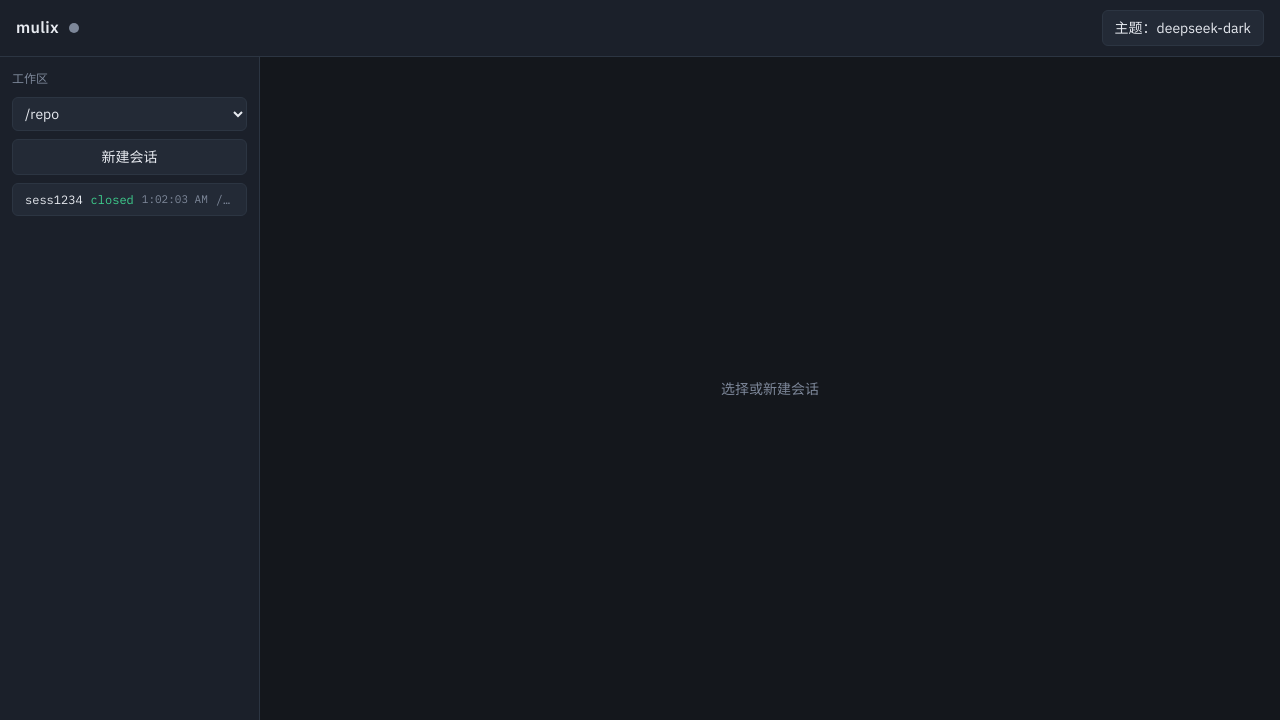
Test case: 交互面（task-12） › 状态条：引擎启动失败（ready=FAILED）如实呈现（FR-013）
Click the button "sess1234 closed 1:02:03 AM /repo".
click(130, 200)  # box x1=12 y1=183 x2=247 y2=216
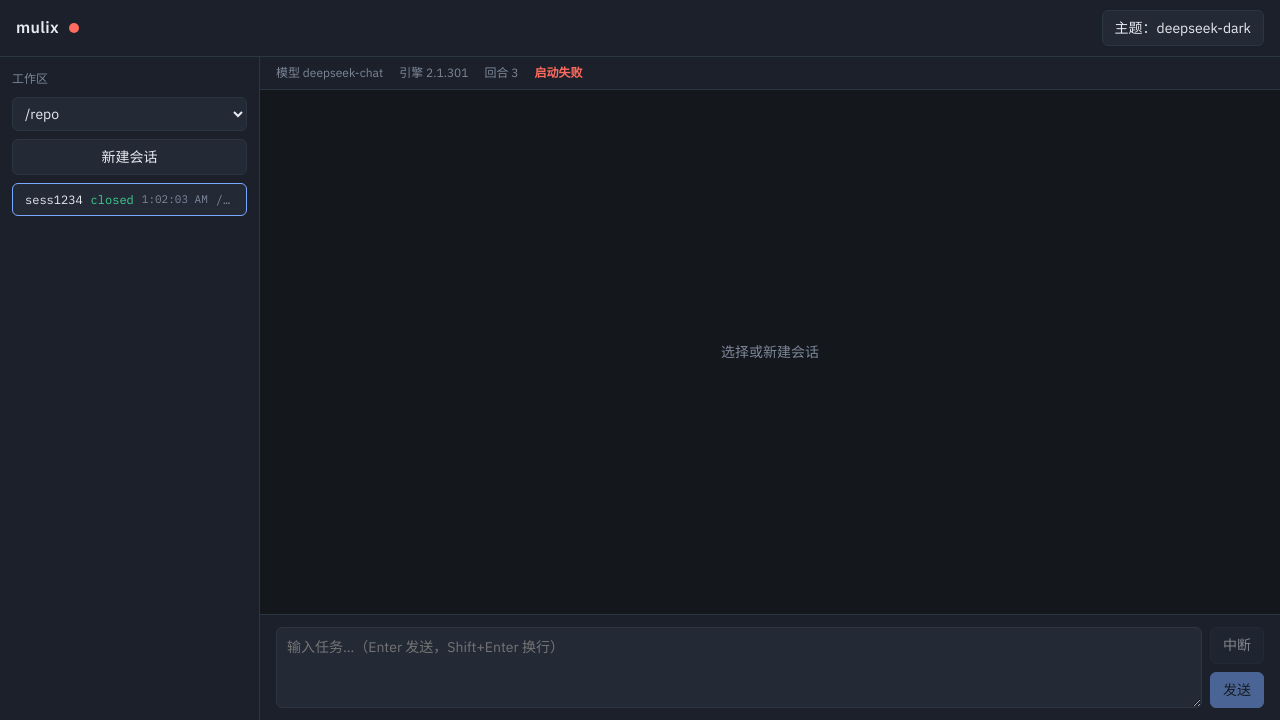
Check: the text "启动失败" is shown, box x1=534 y1=63 x2=582 y2=83
Check: the text "模型 deepseek-chat" is shown, box x1=276 y1=63 x2=383 y2=83
